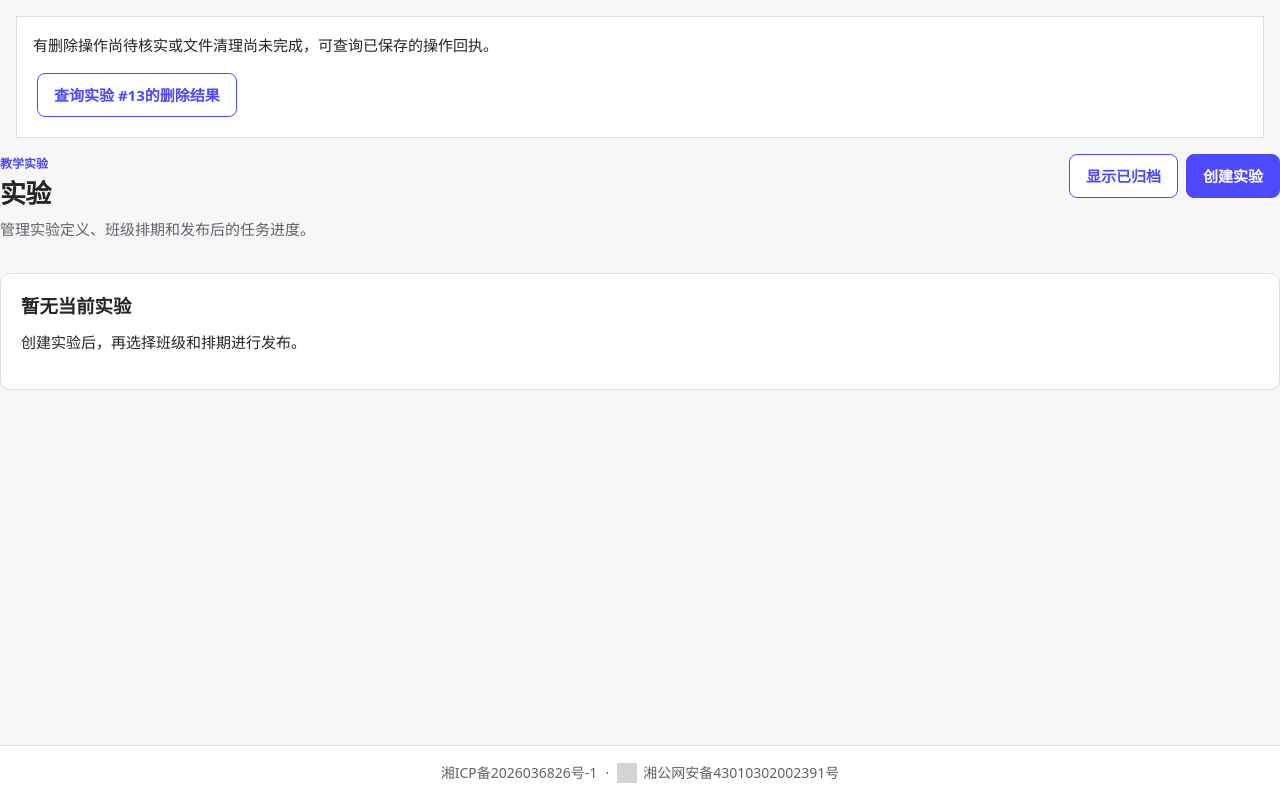
persisted deletion recovery when explicitly mounted › keeps a missing receipt unresolved without offering registration or deletion again
Click the 1st button at (137, 95), box [37,73,237,117]
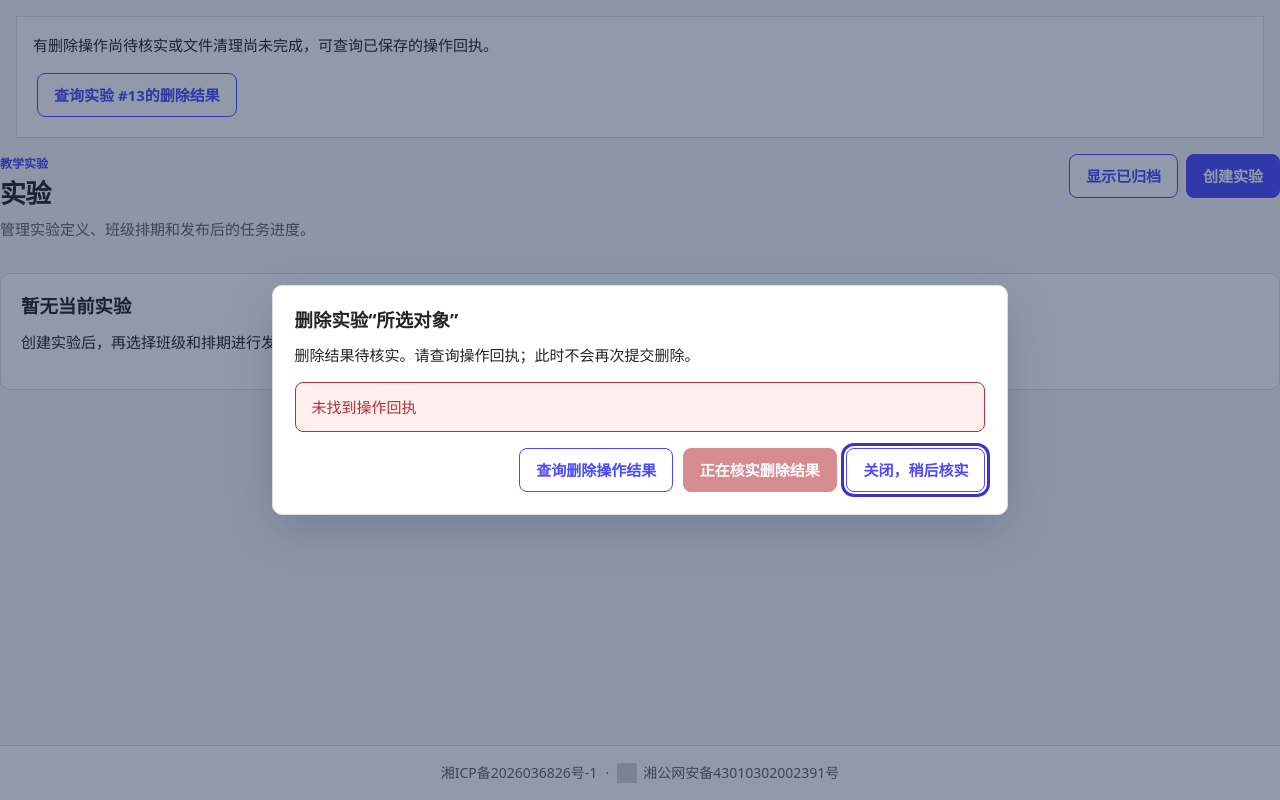
Now the text "删除结果待核实" is shown, box [295,346,700,366]
Now the text "未找到操作回执" is shown, box [295,382,985,432]
Now the button "正在核实删除结果" is disabled, box [683,448,837,492]
